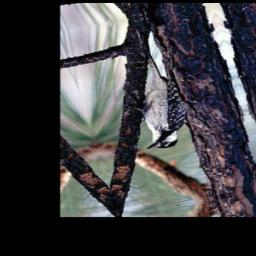Woodpecker: (117, 50, 197, 153)
